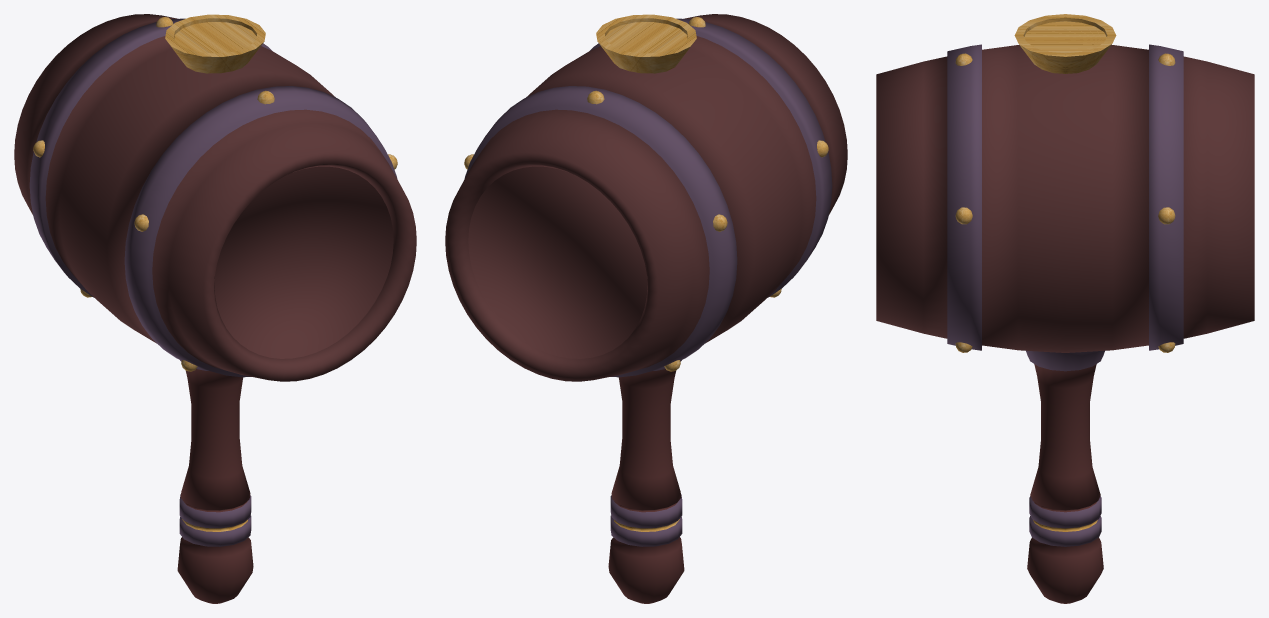
The model's file is Hammer.fbx.
3 views of the same model, side by side, from view 1: azimuth 30°, elevation 25°; view 2: azimuth 150°, elevation 25°; view 3: azimuth 270°, elevation 25° (orthographic).
Parts seen in each view (by area): view 1: Hammer; view 2: Hammer; view 3: Hammer.
Boxes of the visible parts, bbox=[...] form: Hammer: bbox=[14, 14, 416, 603]; Hammer: bbox=[445, 14, 847, 603]; Hammer: bbox=[876, 14, 1254, 603].
Bounding box in the file's own units: 0.5365 × 1.07 × 0.6525.
